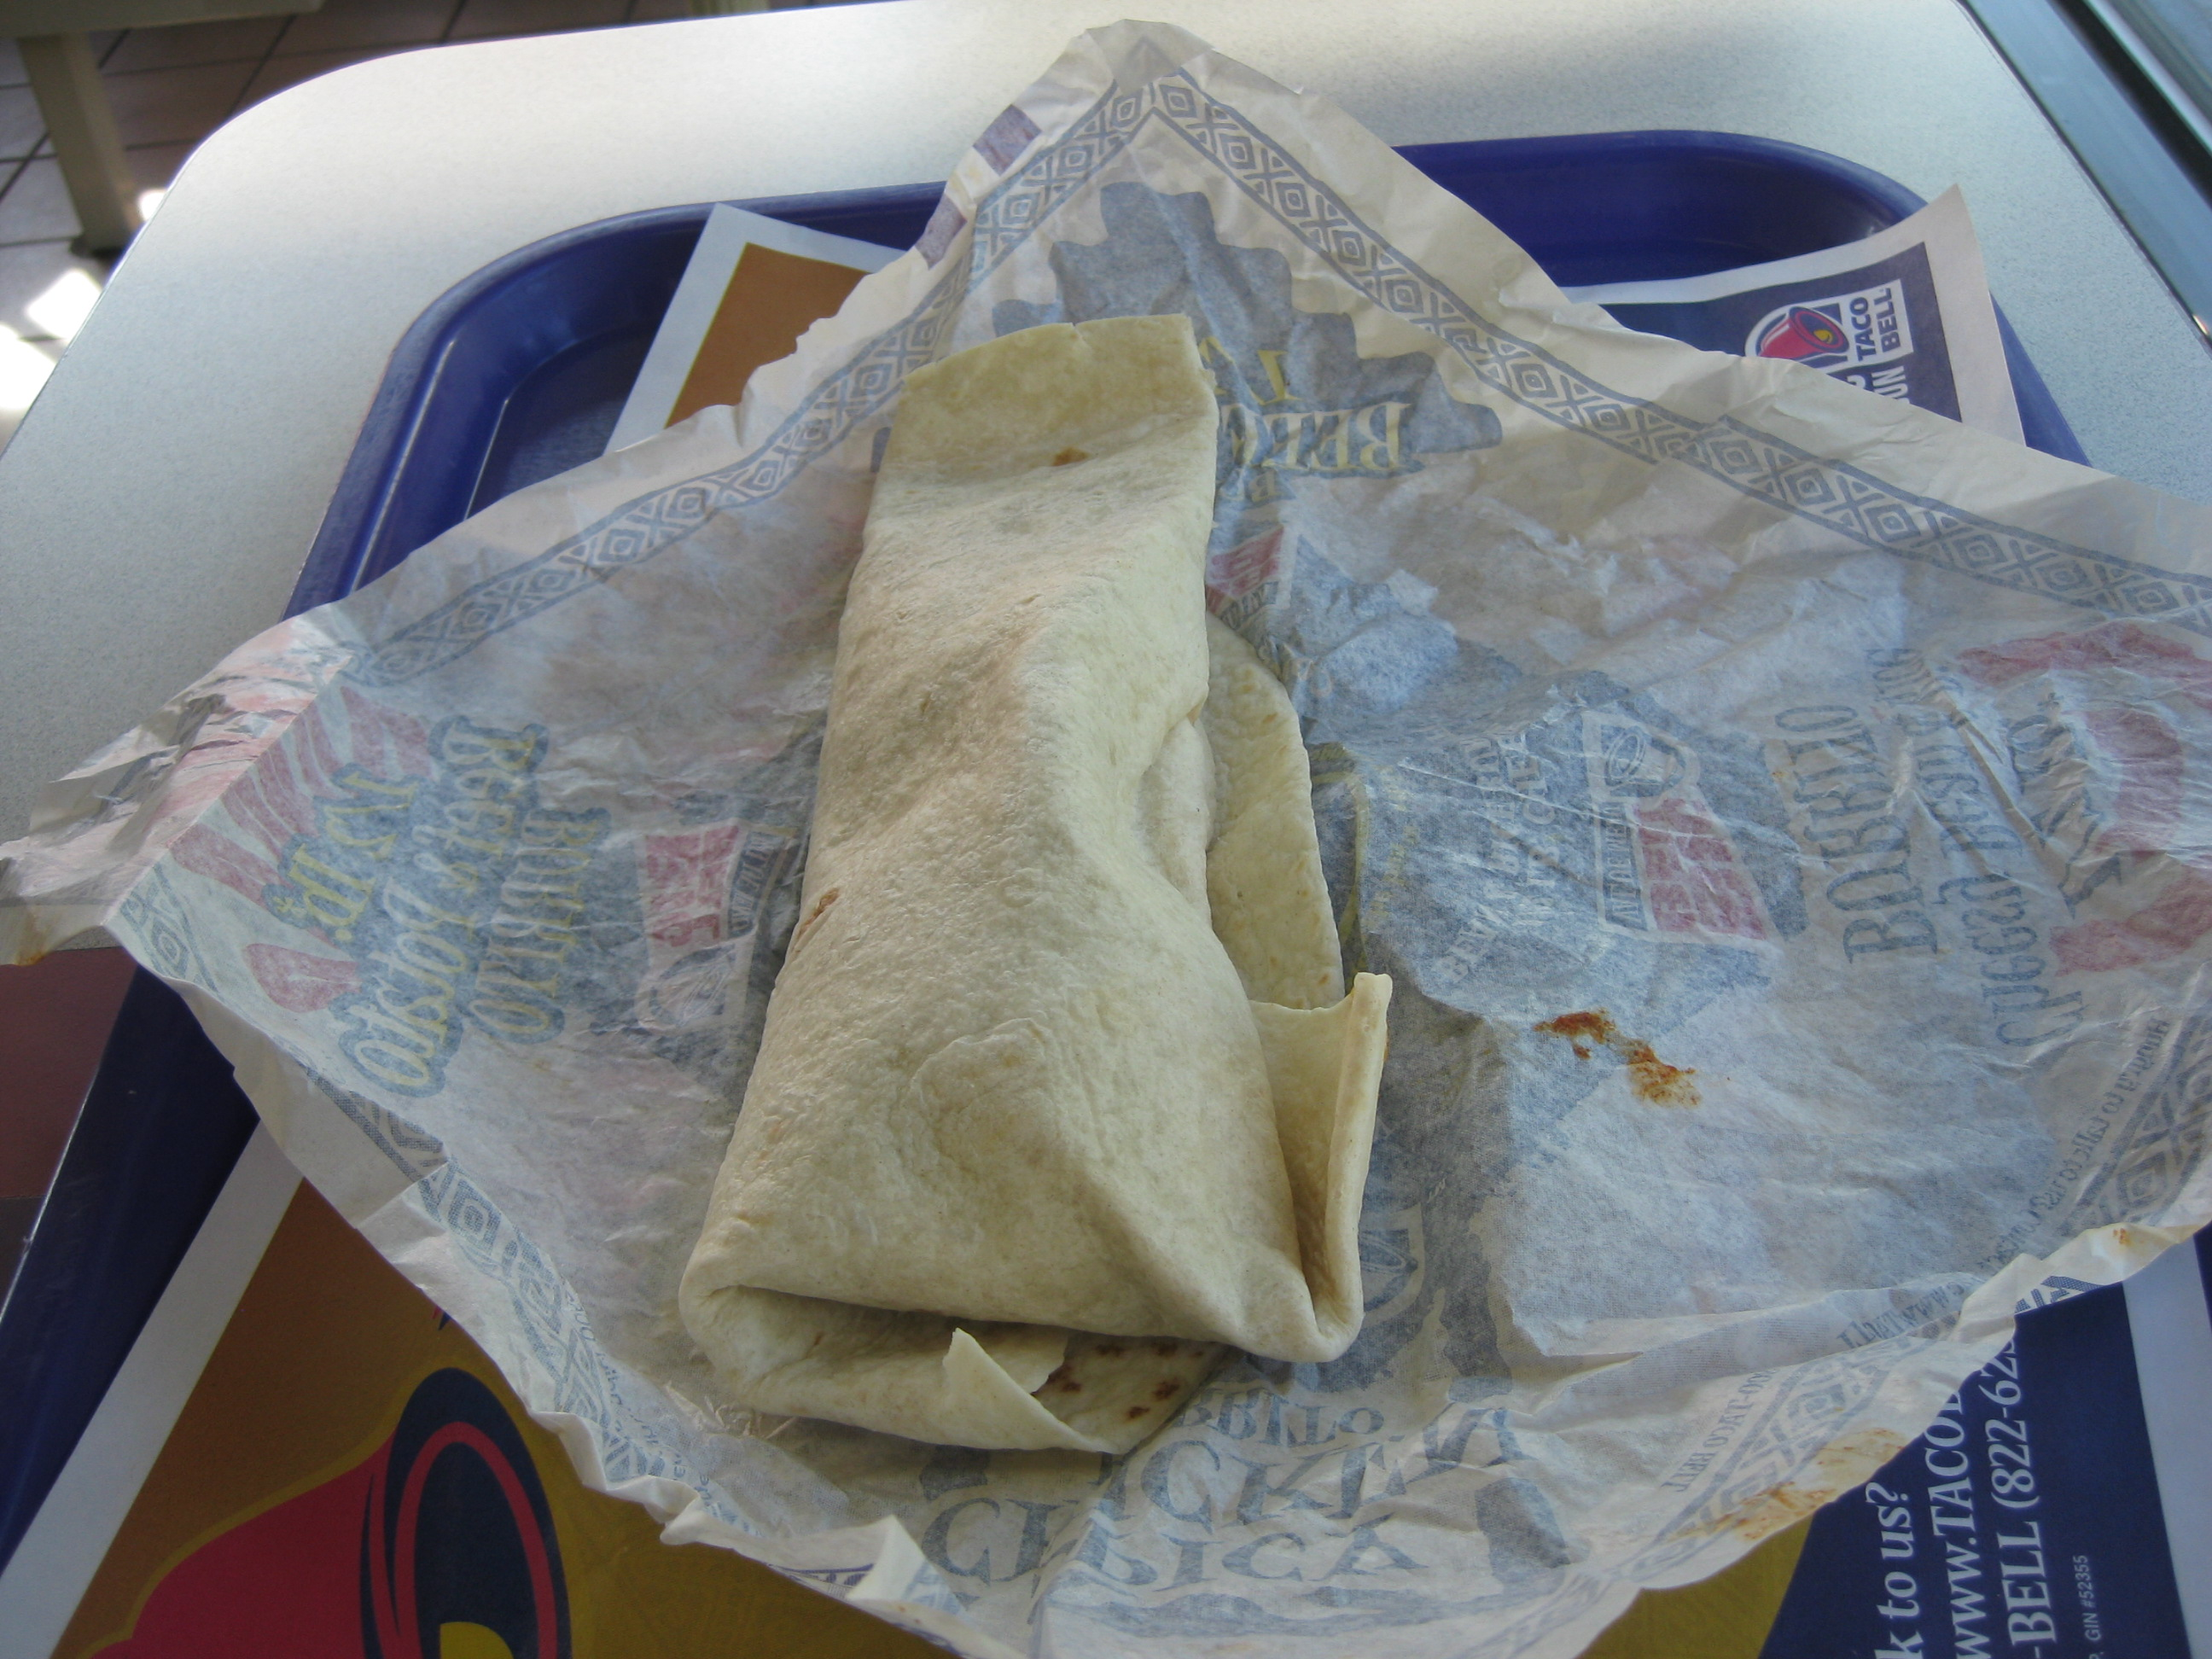burrito: (665, 276, 1491, 1471)
